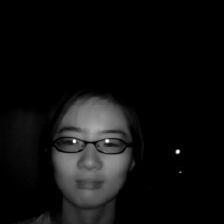normal: (39, 78, 147, 214)
